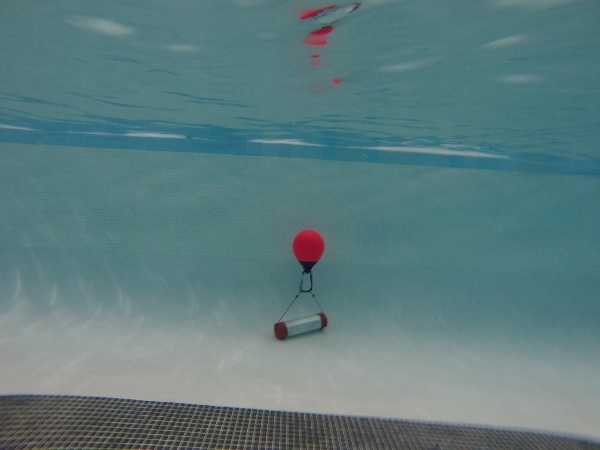buoy_red: (288, 226, 328, 278)
